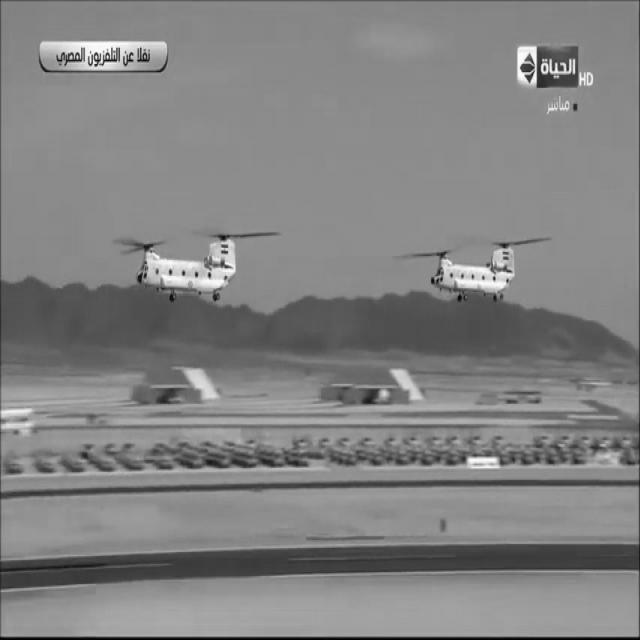helikopter: (121, 212, 256, 311), (406, 228, 534, 316)
